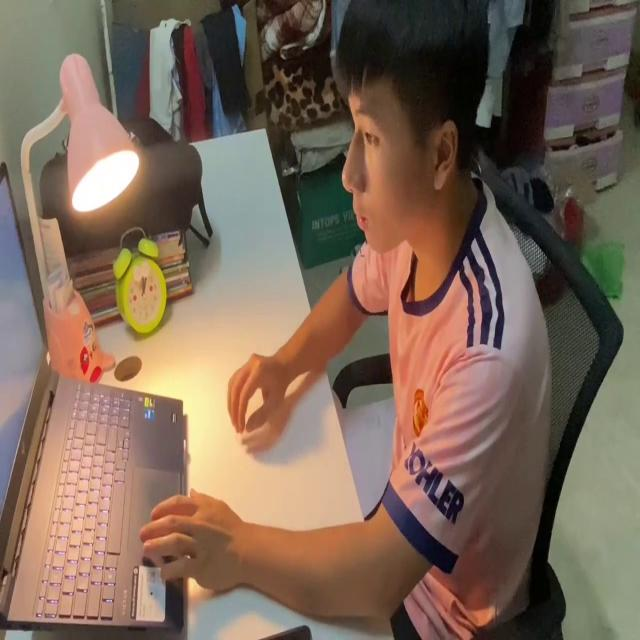book: (328, 371, 402, 520)
laptop: (0, 160, 190, 640)
phone: (265, 624, 311, 640)
student: (141, 0, 559, 640)
